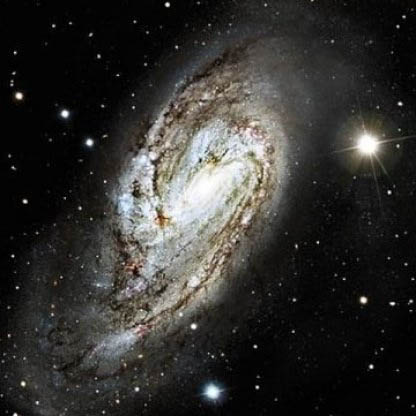Messier 66: (26, 22, 385, 406)
